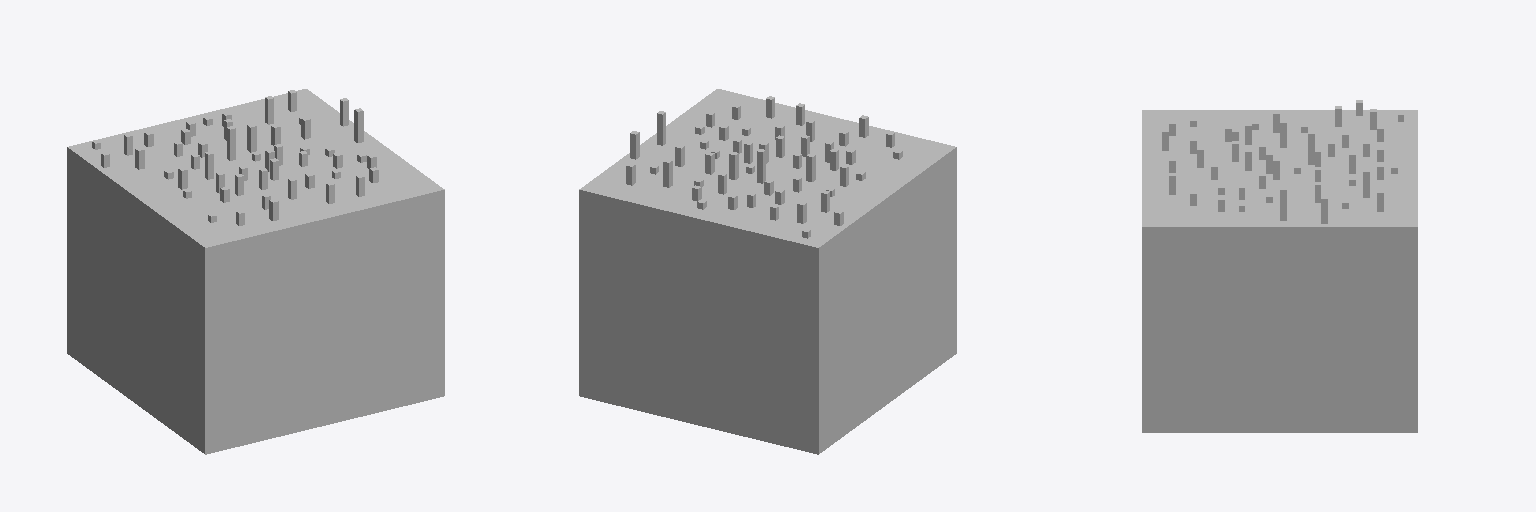
Rendered from GrassBlock.obj.
3 views of the same model, side by side, from view 1: azimuth 30°, elevation 25°; view 2: azimuth 150°, elevation 25°; view 3: azimuth 270°, elevation 25° (orthographic).
Visible parts, largest first — view 1: object 1; view 2: object 1; view 3: object 1.
Part boxes in pixels (x1,y1,x2,y2): object 1: (67,89,444,454); object 1: (579,89,956,454); object 1: (1142,100,1417,432).
Bounding box in the file's own units: 4 × 3.8 × 4.